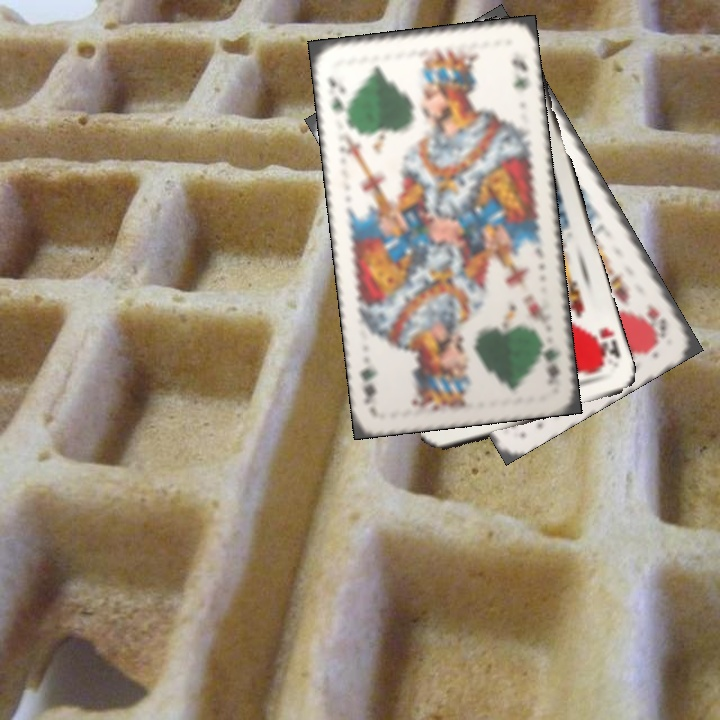GK: (537, 331, 563, 389), (324, 72, 351, 122)
HK: (587, 323, 623, 370), (642, 300, 670, 341)
